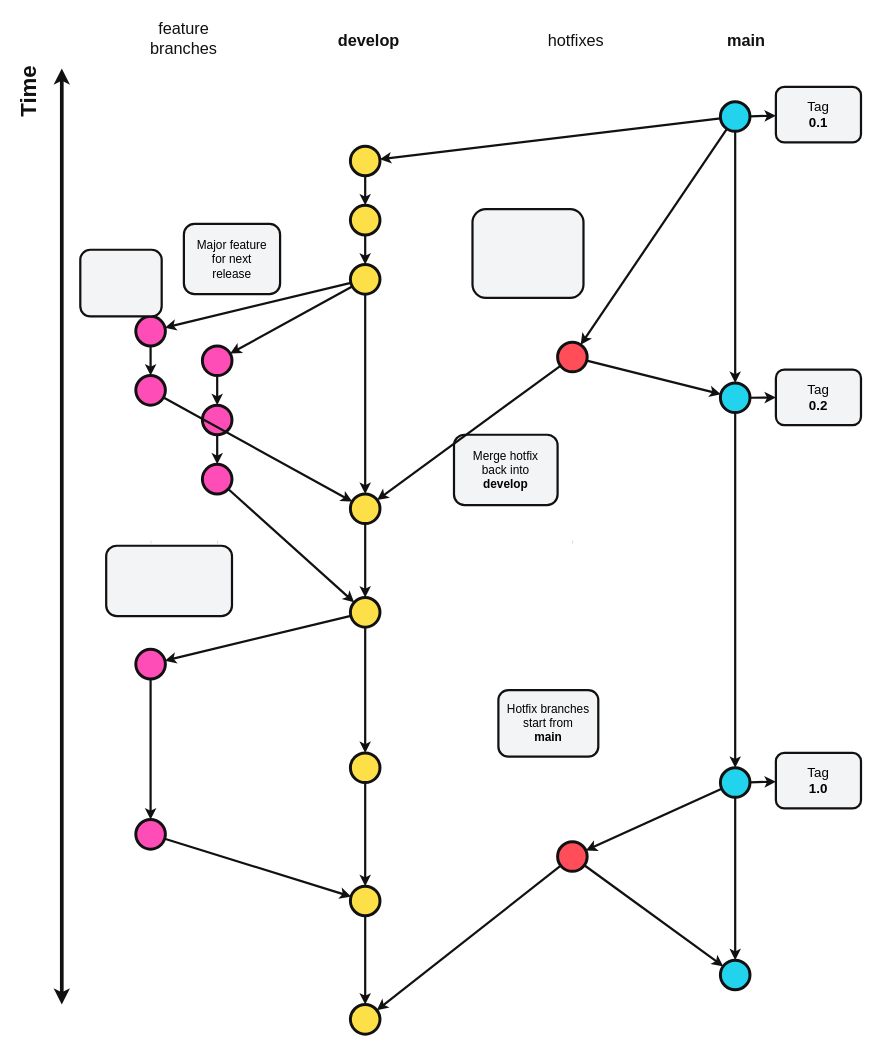
Image size: 875x1048. Some labels were removed from this diagram. Here are the shapes that lost their labels. From the top down, the centre of each, then its label:
the point at 527,253: Severe bug fix for production: hotfix 0.2
the point at 120,282: Feature for future release
the point at 169,580: Next release continues from develop
